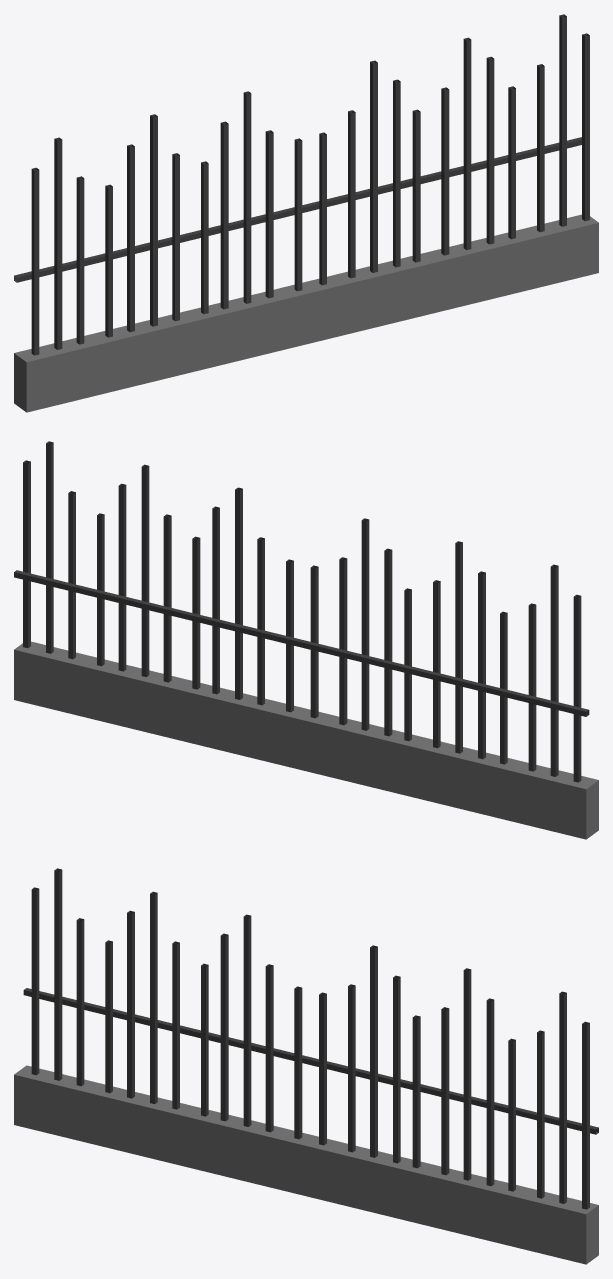
Rendered from Fences Boundaries.fbx.
The picture shows the model from 3 angles, top to bottom: view 1: azimuth 30°, elevation 25°; view 2: azimuth 150°, elevation 25°; view 3: azimuth 330°, elevation 25°; orthographic projection.
Parts seen in each view (by area): view 1: Fences Boundaries; view 2: Fences Boundaries; view 3: Fences Boundaries.
Part boxes in pixels (x1=…): Fences Boundaries: x1=14, y1=14, x2=598, y2=412; Fences Boundaries: x1=14, y1=441, x2=598, y2=839; Fences Boundaries: x1=14, y1=868, x2=598, y2=1264.
Bounding box in the file's own units: 681 × 295 × 26.15.
